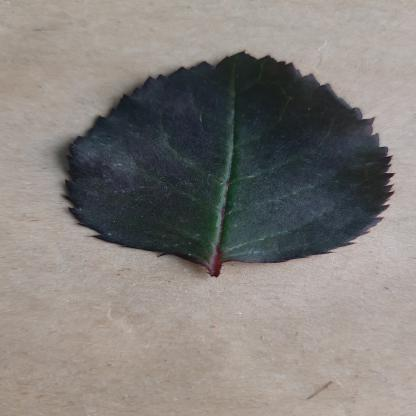powdery-mildew: (56, 49, 400, 266)
